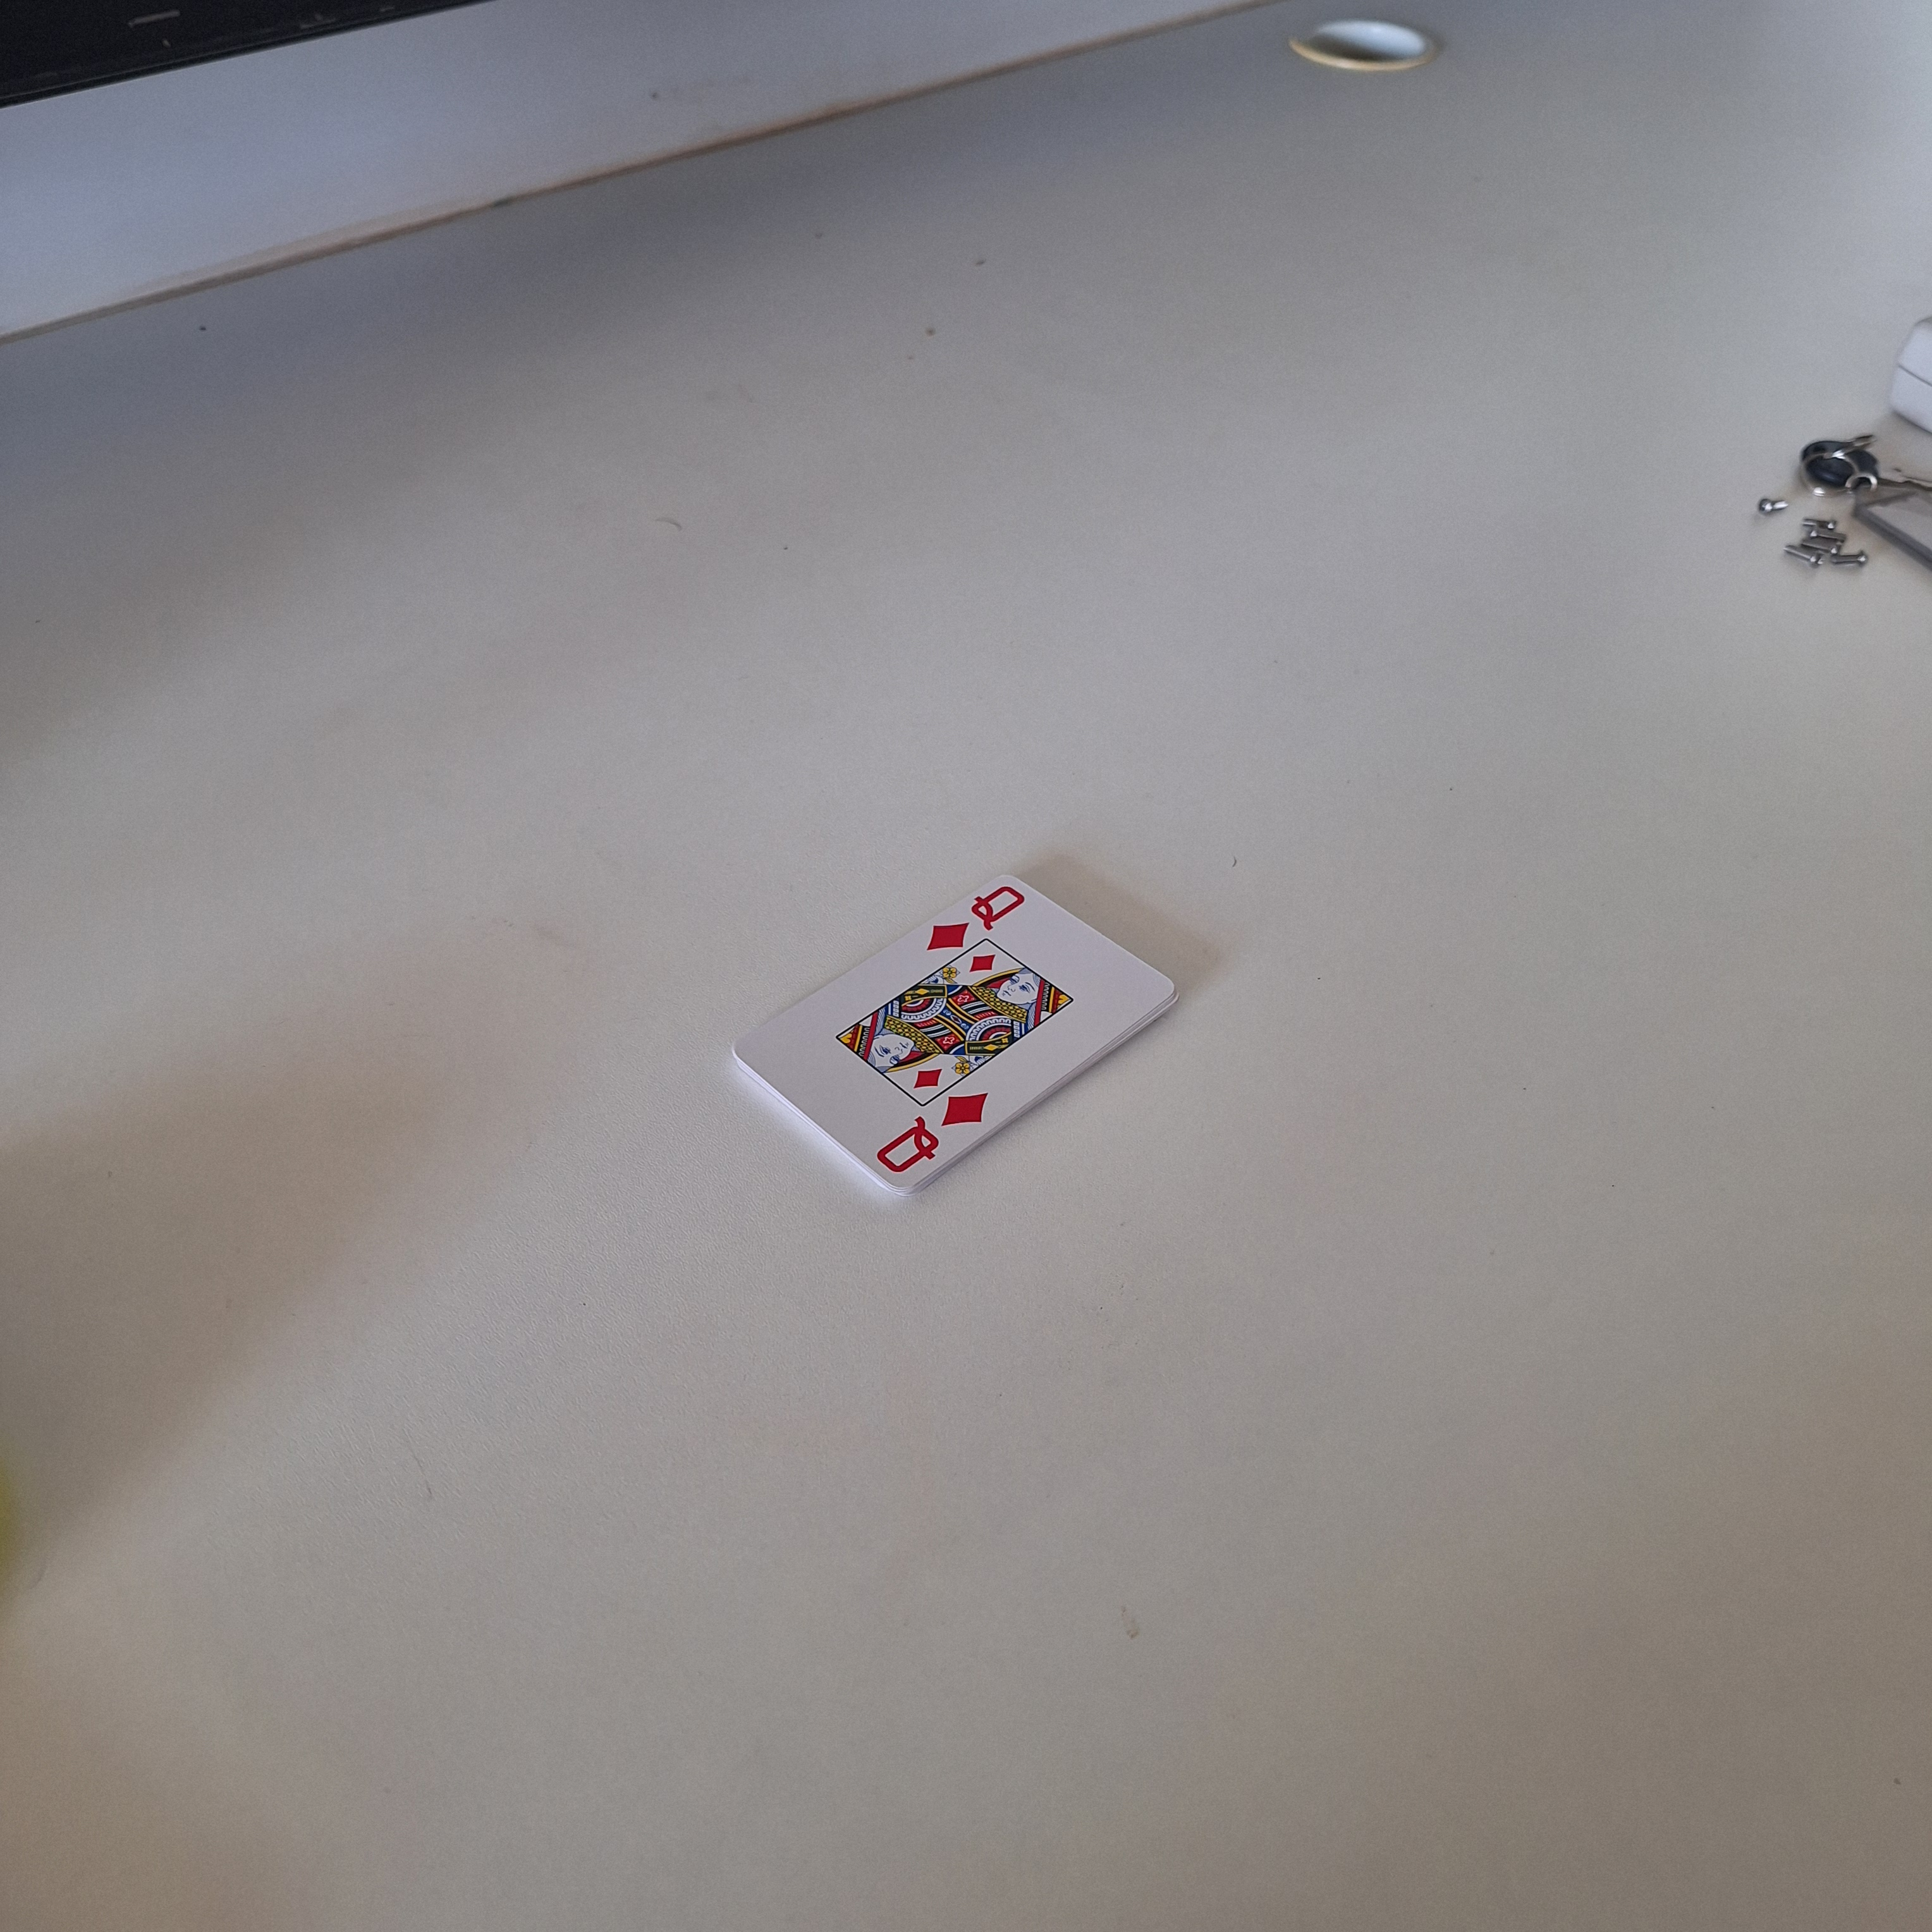QO: (870, 1088, 1000, 1178), (918, 881, 1033, 952)
